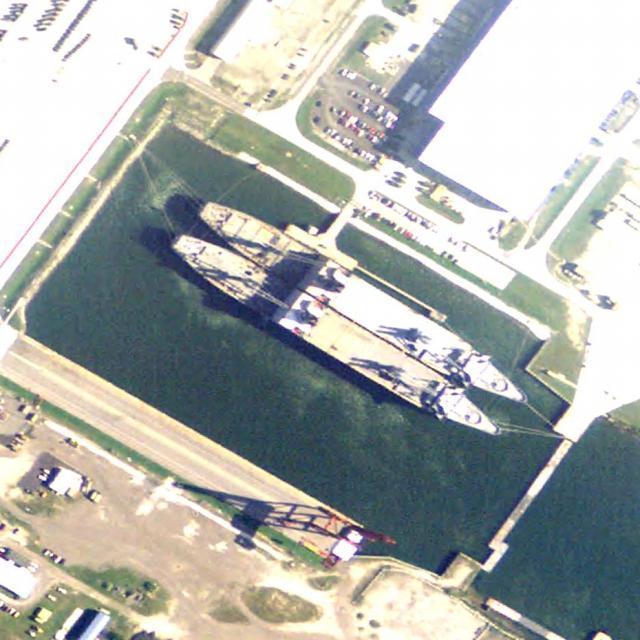Cargo: (164, 220, 513, 453), (192, 189, 539, 421)
Dock: (284, 217, 456, 324)
